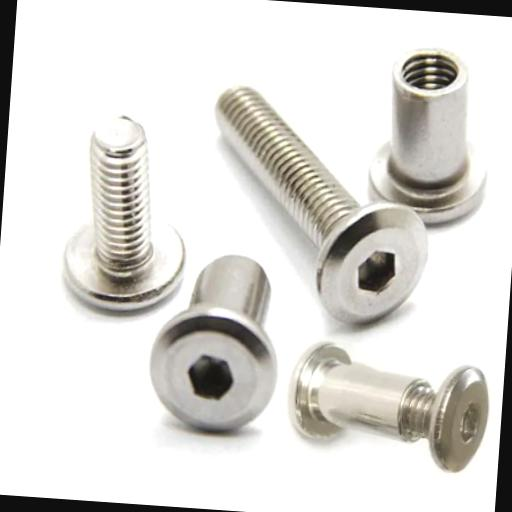Hex-Allen: (146, 302, 284, 440), (310, 202, 428, 337)
